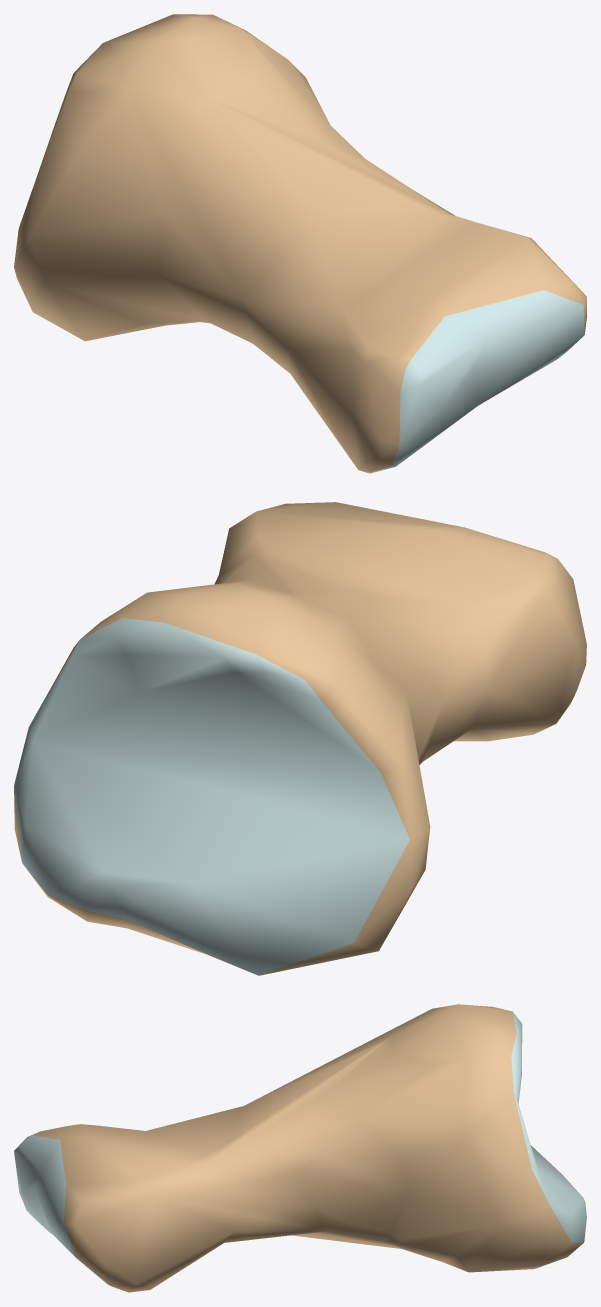
File: Middle_phalanx_of_3rd_finger_of_foot.l_Generated_Mesh_From_X3D..glb
3 views of the same model, one above another, from view 1: azimuth 30°, elevation 25°; view 2: azimuth 150°, elevation 25°; view 3: azimuth 270°, elevation 25° (orthographic). The views are drawn at different scales.
Visible parts, largest first — view 1: Middle_phalanx_of_3rd_finger_of_foot.l_Generated_Mesh_From_X; view 2: Middle_phalanx_of_3rd_finger_of_foot.l_Generated_Mesh_From_X; view 3: Middle_phalanx_of_3rd_finger_of_foot.l_Generated_Mesh_From_X.
Boxes of the visible parts, x1,y1,x2,y2 form: Middle_phalanx_of_3rd_finger_of_foot.l_Generated_Mesh_From_X: (14, 14, 586, 473); Middle_phalanx_of_3rd_finger_of_foot.l_Generated_Mesh_From_X: (14, 502, 586, 975); Middle_phalanx_of_3rd_finger_of_foot.l_Generated_Mesh_From_X: (14, 1004, 586, 1292).
Bounding box in the file's own units: 0.0111 × 0.0083 × 0.0174.
